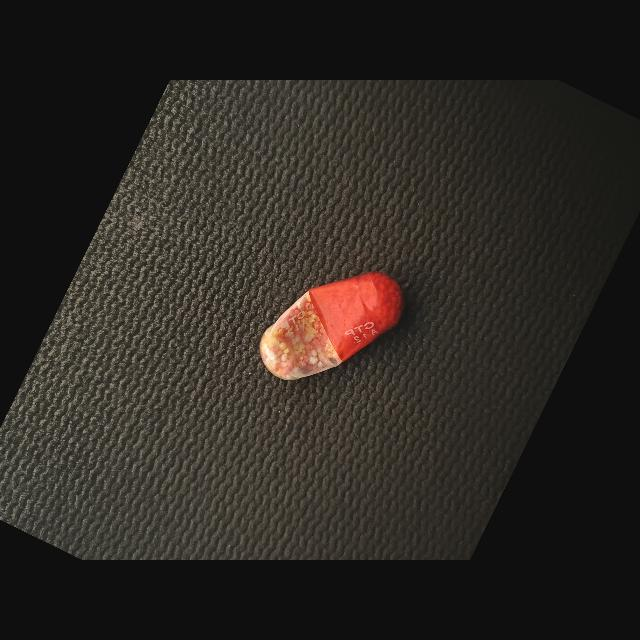Defective Capsule: (260, 272, 403, 380)
